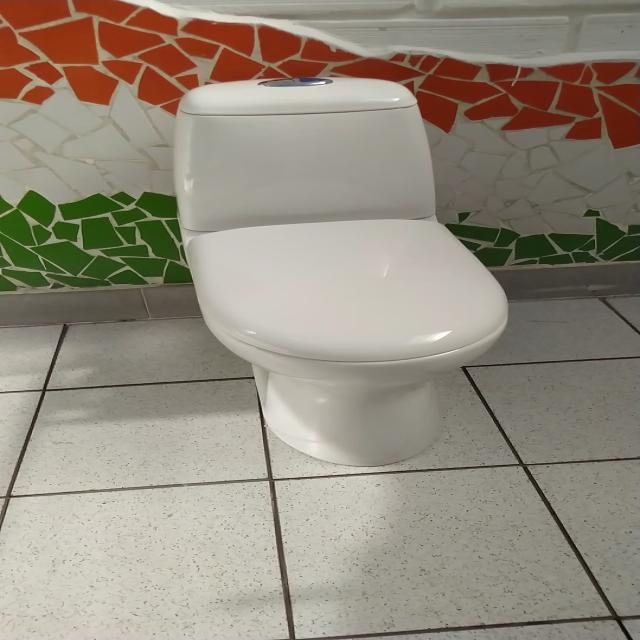toilet: (171, 76, 509, 467)
